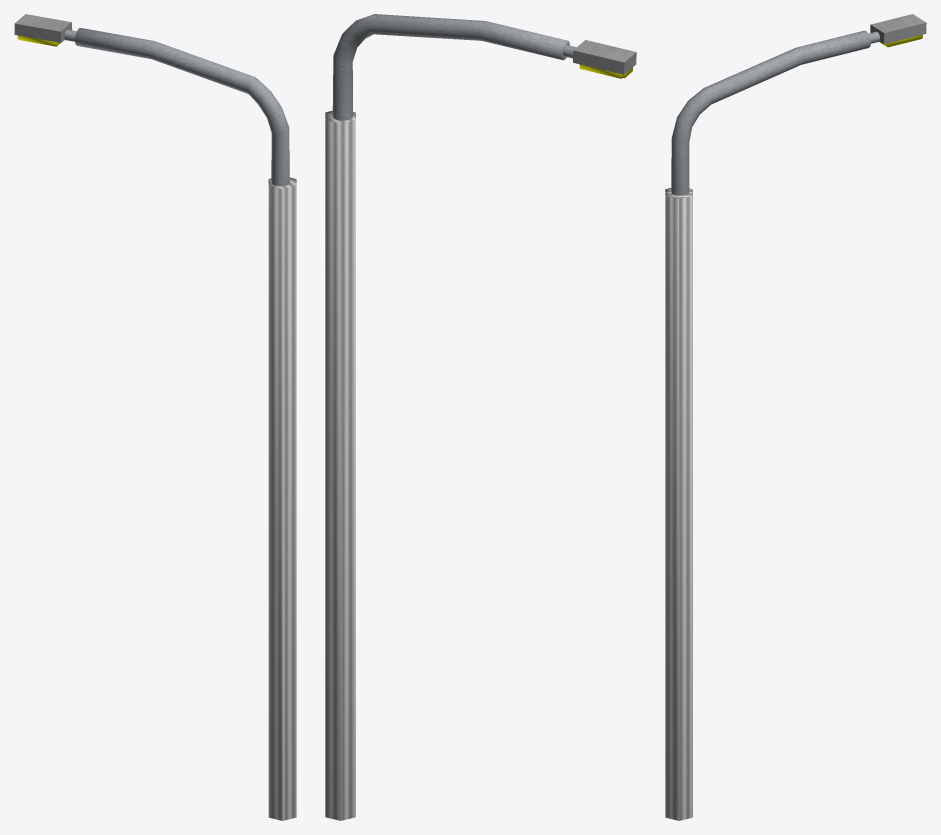
Rendered from lamp-post-modern-original.glb.
3 renders of one model, left to right at view 1: azimuth 30°, elevation 25°; view 2: azimuth 210°, elevation 25°; view 3: azimuth 270°, elevation 25°, orthographic. The views are drawn at different scales.
Parts seen in each view (by area): view 1: node-0; view 2: node-0; view 3: node-0.
Boxes of the visible parts, x1,y1,x2,y2 form: node-0: (14,14,296,820); node-0: (325,14,636,820); node-0: (665,14,926,820).
Size of the model in its own units: 3.72 by 16.22 by 5.24.
Materials: 5 (3 with a texture image).
